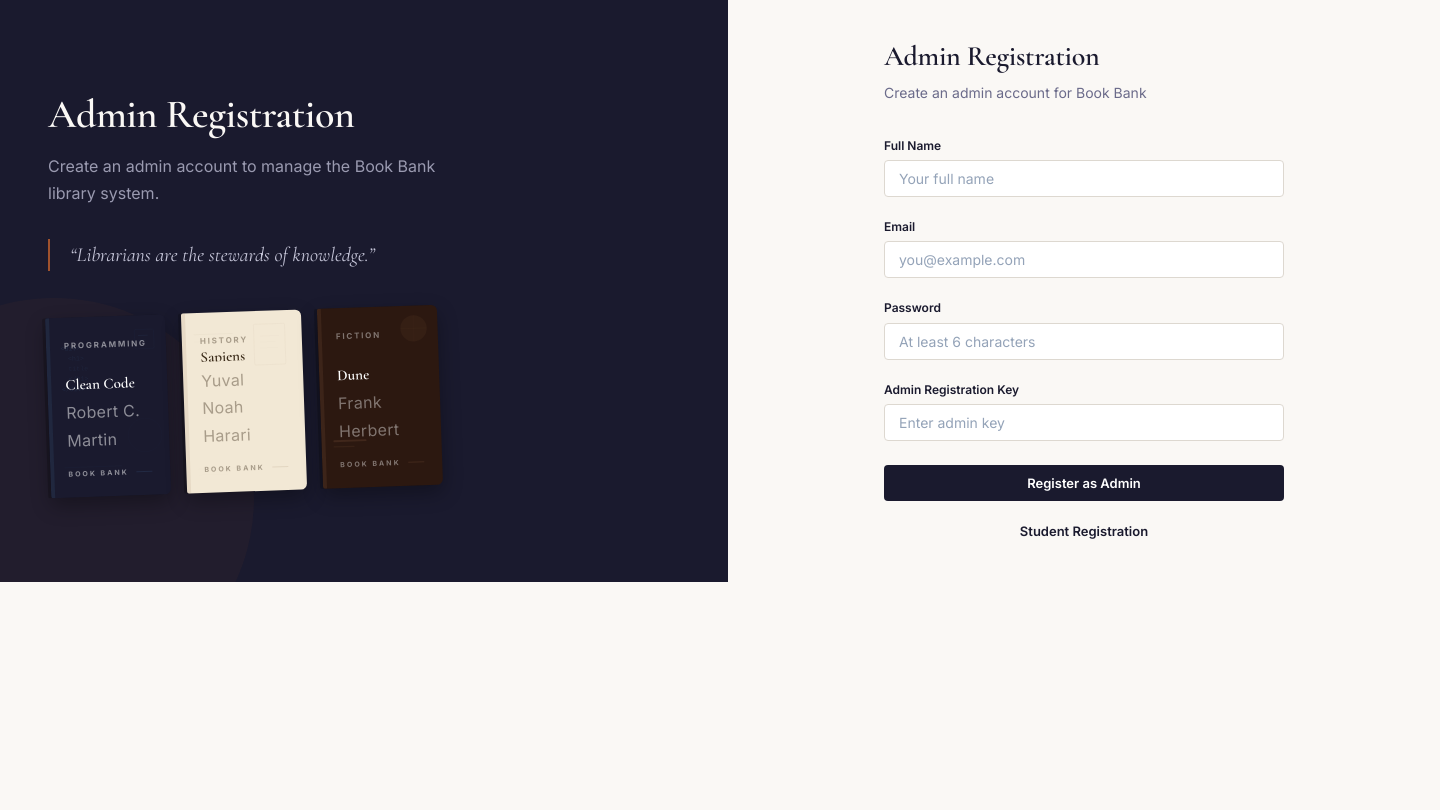
Test: AdminRegister › shows the backend error when the admin key is rejected
The width and height of the screenshot is (1440, 810).
Type "New Admin" into the field labelled "Full Name".
click(1084, 179); type("New Admin")  # box 884,160 -> 1284,197
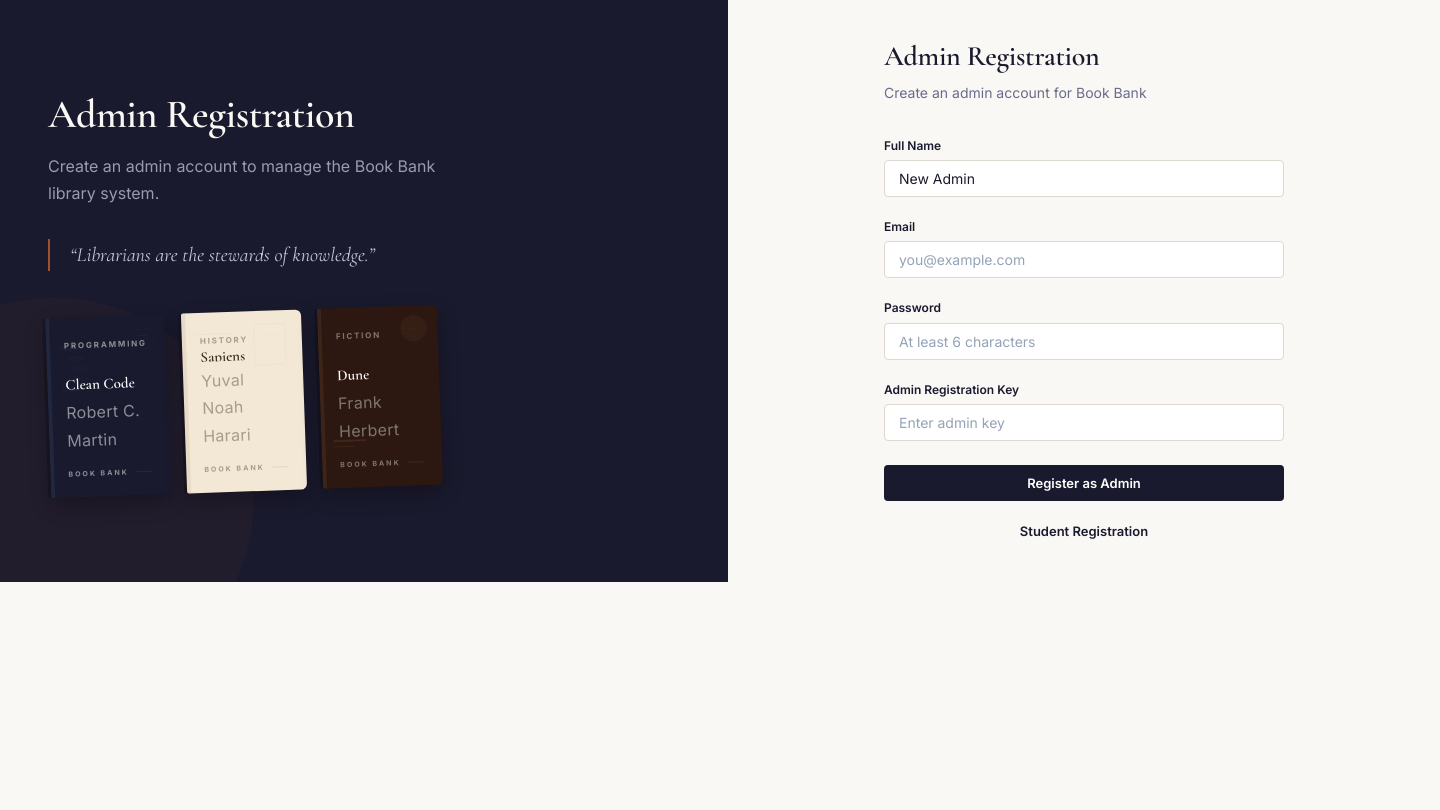
Type "new-admin@example.test" into the field labelled "Email".
click(1084, 260); type("new-admin@example.test")  # box 884,241 -> 1284,278
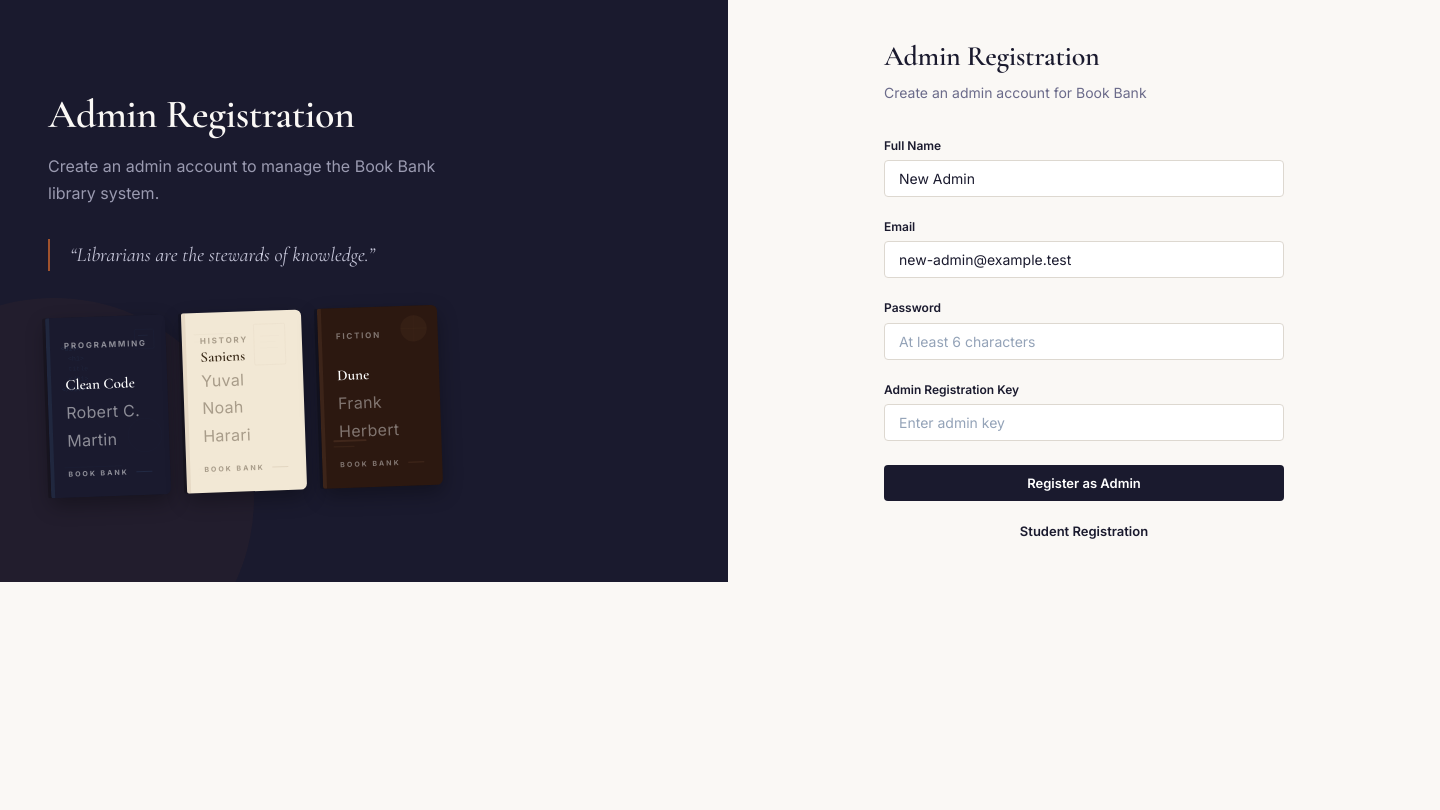
Type "secret123" into the password field labelled "Password".
click(1084, 341); type("secret123")  # box 884,322 -> 1284,360
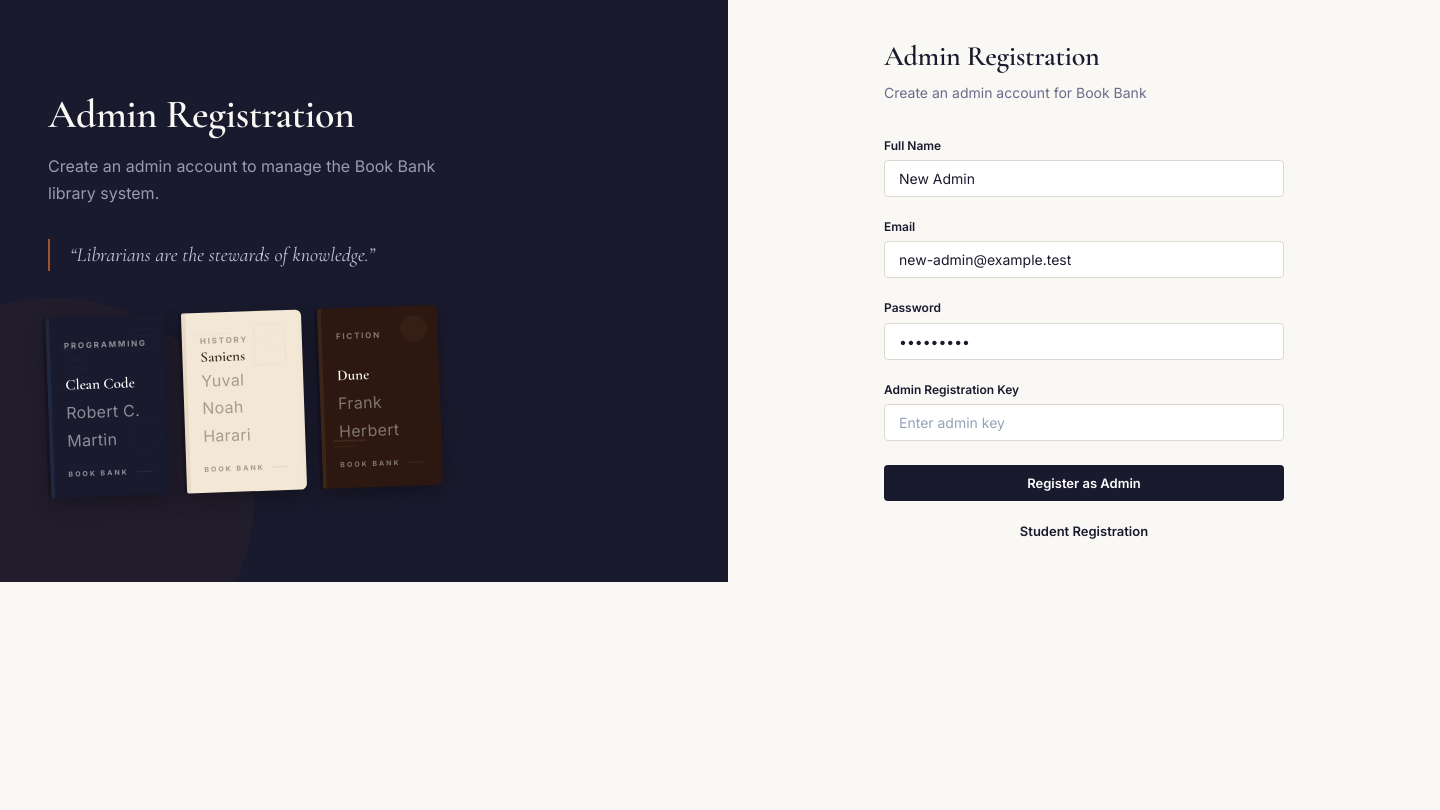
Type "wrong-key" into the password field labelled "Admin Registration Key".
click(1084, 422); type("wrong-key")  # box 884,404 -> 1284,441
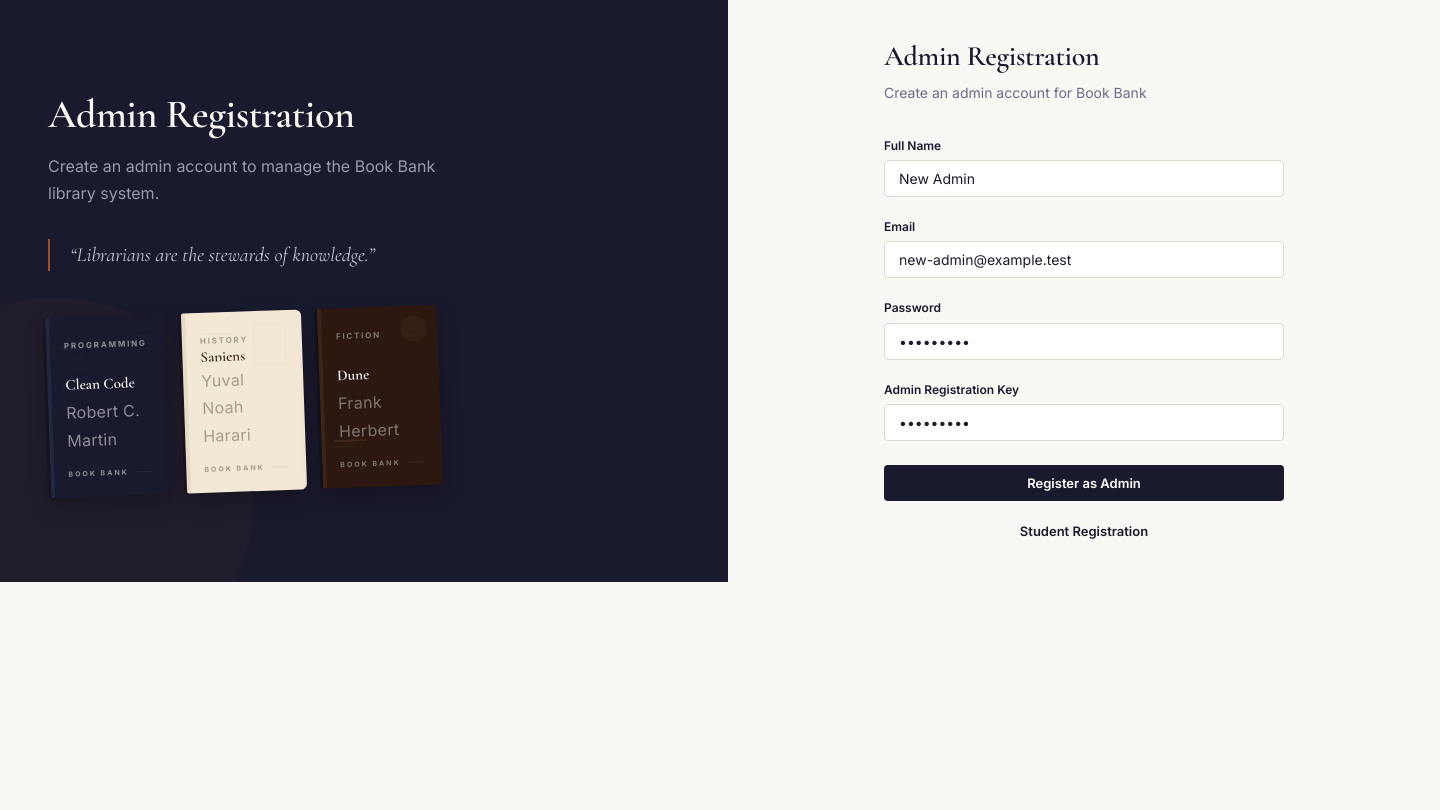
Click the button "Register as Admin".
click(1084, 483)  # box 884,465 -> 1284,501
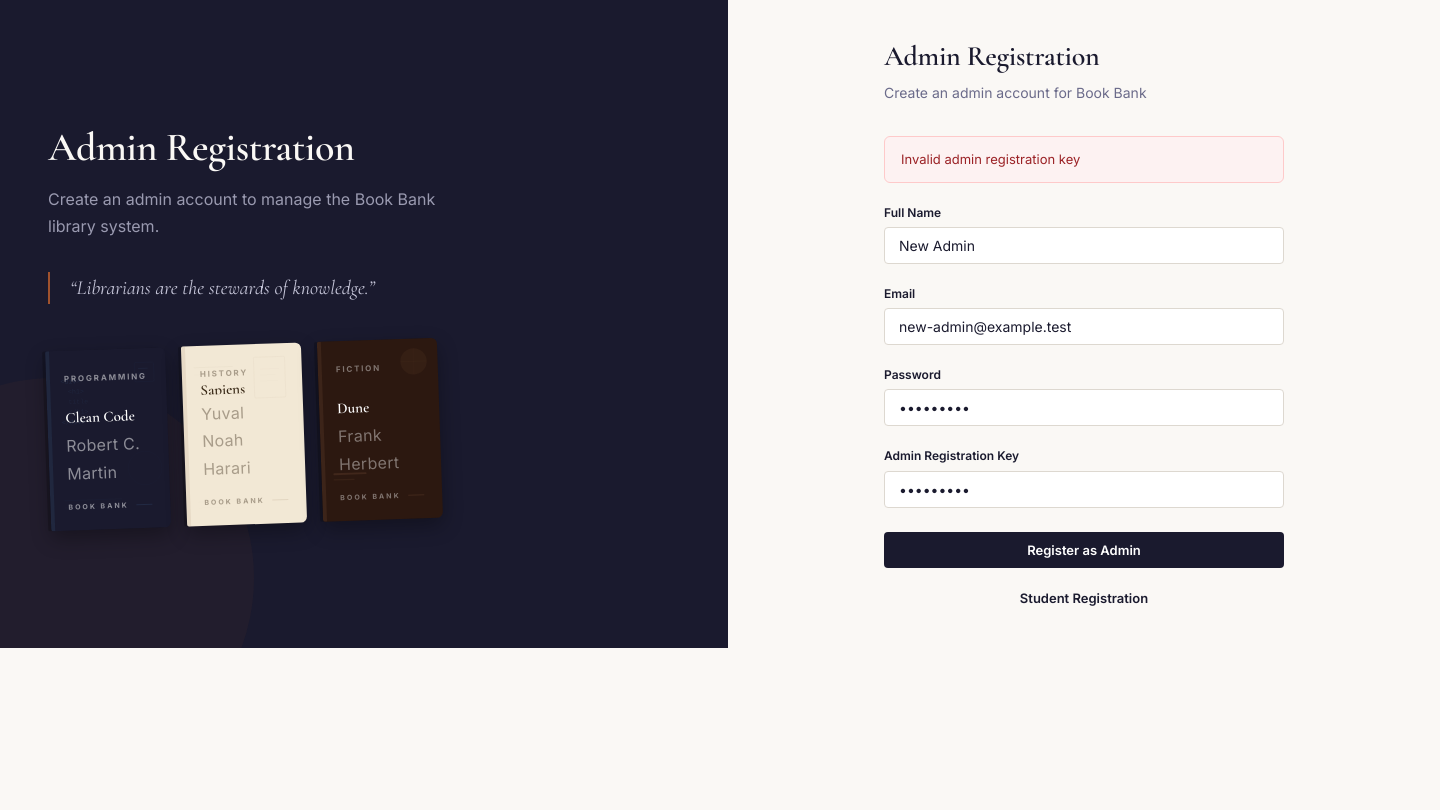
Expected: the 1st heading "Admin Registration" is shown, 884,39 -> 1099,73
Expected: the text "Invalid admin registration key" is shown, 884,136 -> 1284,183
